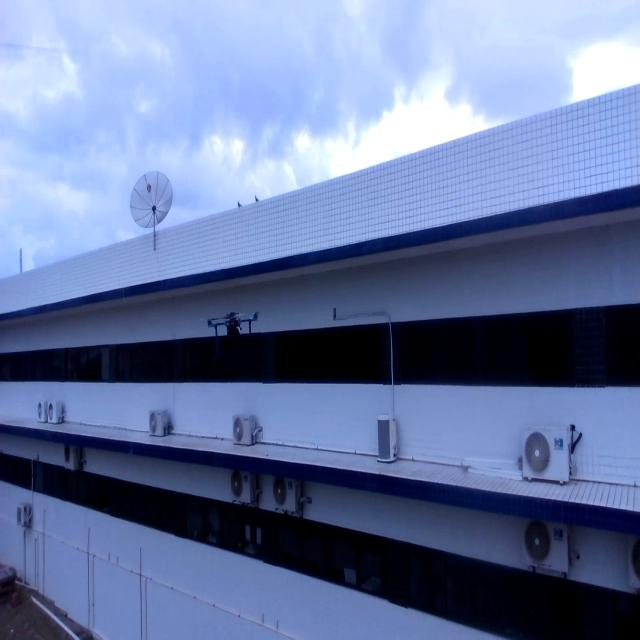-uav-: (204, 307, 266, 363)
